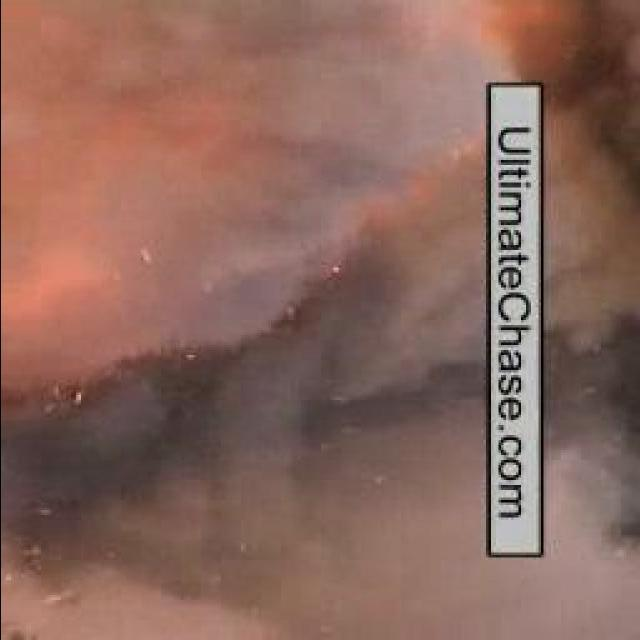Fire: (0, 32, 283, 307), (480, 4, 633, 91)
